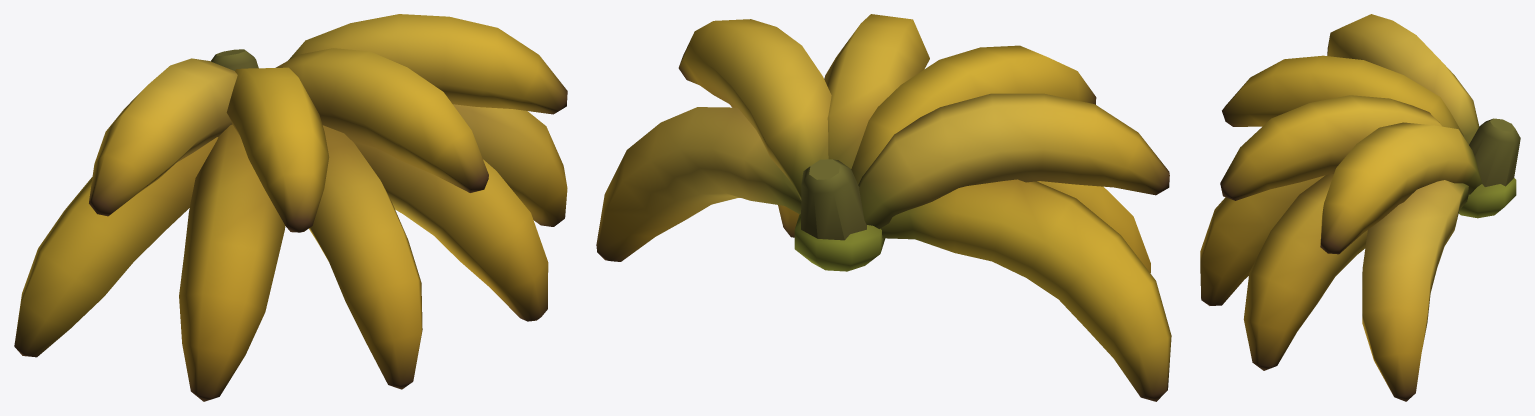
The model's file is bunch.glb.
The picture shows the model from 3 angles, left to right: view 1: azimuth 30°, elevation 25°; view 2: azimuth 150°, elevation 25°; view 3: azimuth 270°, elevation 25°; orthographic projection. The views are drawn at different scales.
Parts seen in each view (by area): view 1: bunch; view 2: bunch; view 3: bunch.
Boxes of the visible parts, x1,y1,x2,y2 form: bunch: (14, 14, 567, 401); bunch: (596, 14, 1171, 401); bunch: (1200, 14, 1520, 401).
Size of the model in its own units: 0.4014 by 0.184 by 0.2379.
